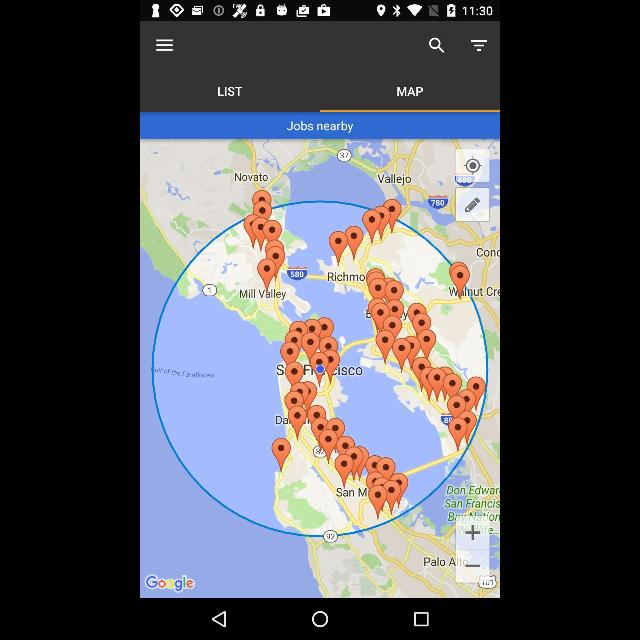icon: (462, 156, 482, 178), (154, 36, 176, 56), (467, 34, 489, 54), (427, 37, 448, 55), (462, 198, 482, 215), (312, 611, 330, 627), (414, 611, 430, 627), (214, 612, 228, 628)
map: (142, 141, 500, 597)
multitab: (141, 64, 499, 114)
panel: (143, 600, 497, 638), (141, 114, 499, 140)
text: (284, 119, 356, 133)
toolbar: (140, 21, 500, 60)
uppertaskbar: (143, 1, 499, 21)
